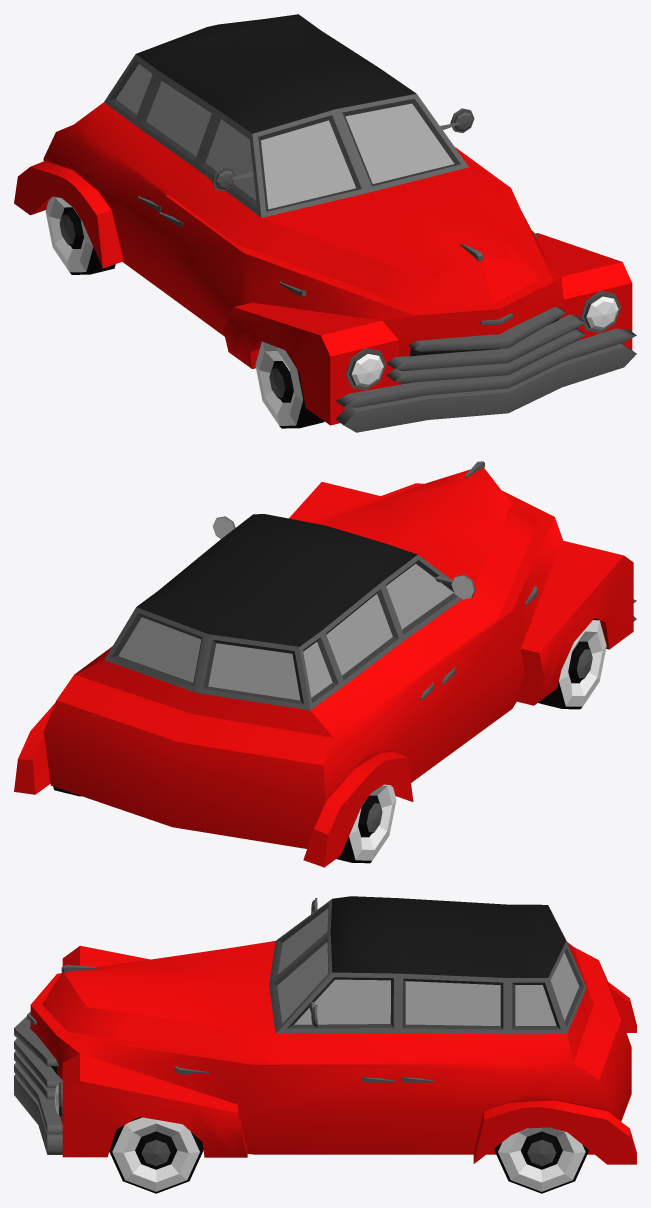
File: Car.FBX
The picture shows the model from 3 angles, top to bottom: view 1: azimuth 30°, elevation 25°; view 2: azimuth 150°, elevation 25°; view 3: azimuth 270°, elevation 25°; orthographic projection. The views are drawn at different scales.
Parts seen in each view (by area): view 1: Box048; view 2: Box048; view 3: Box048.
Part boxes in pixels (<box>): Box048: <box>14,14,636,432</box>; Box048: <box>14,461,636,867</box>; Box048: <box>14,896,636,1193</box>.
Bounding box in the file's own units: 327 × 220 × 600.
